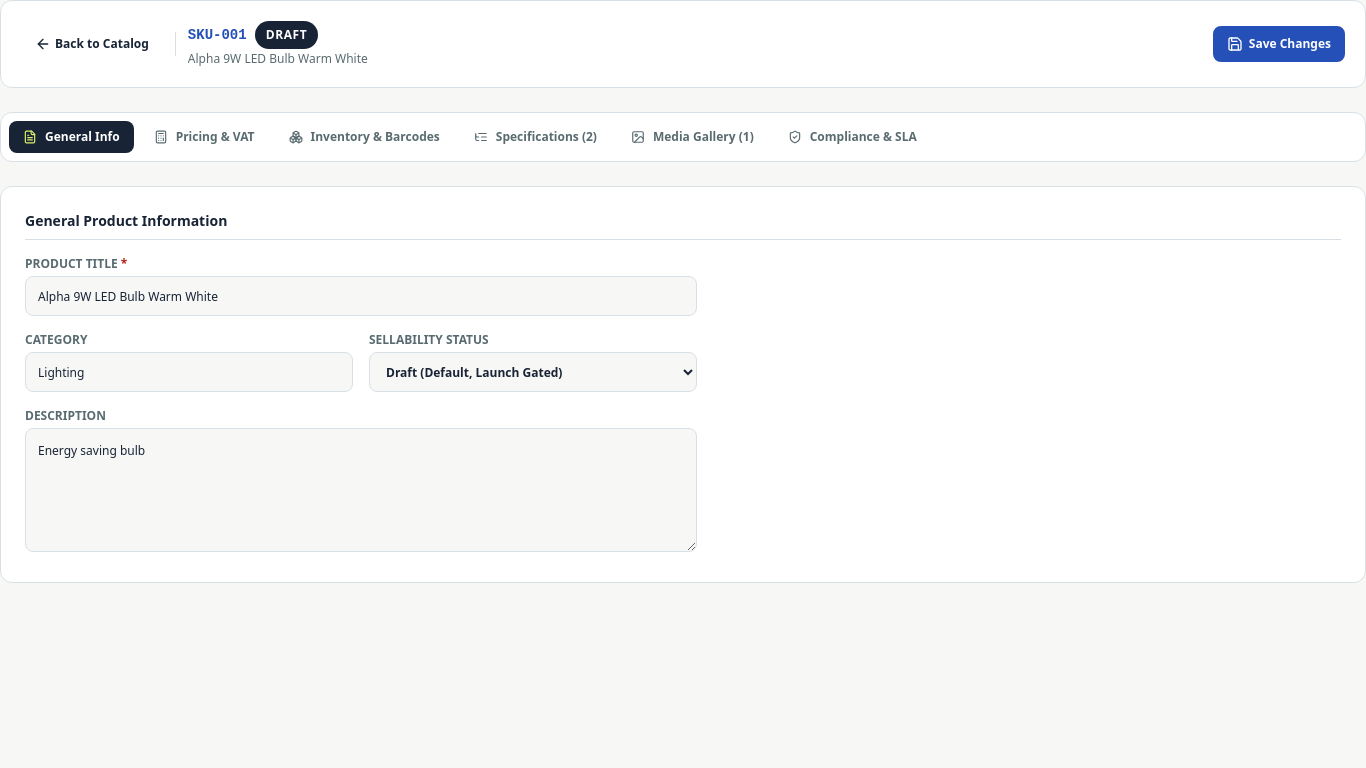
Scenario: ToolCart Retail Admin Portal Hardening & Verification Suite › Feature 9–15: ProductEditorForm Tabbed Navigation & Live Calculations › switches between tabs cleanly without layout breakage
Expected: the heading "General Product Information" is shown, [25,211,1341,240]
Switch to Pricing & VAT tab
What coordinates should you click on to do the following:
click the button "Pricing & VAT"
I would click on:
 (204, 137)
Its box is [140,121,268,153].
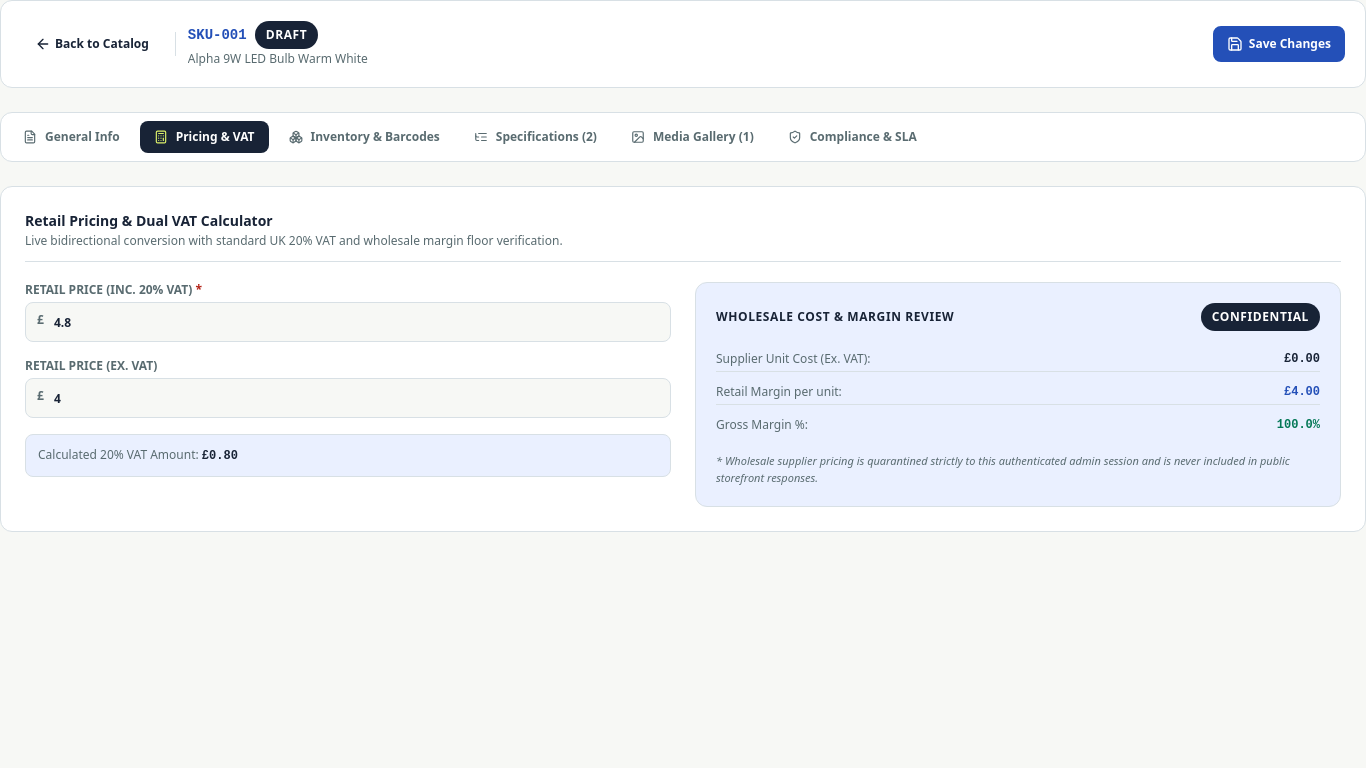
Result: the heading "Retail Pricing & Dual VAT Calculator" is shown at [25,211,273,230]
Switch to Inventory tab
What coordinates should you click on to do the following:
click the button "Inventory & Barcodes"
I would click on:
 (364, 137)
Its box is [274,121,454,153].
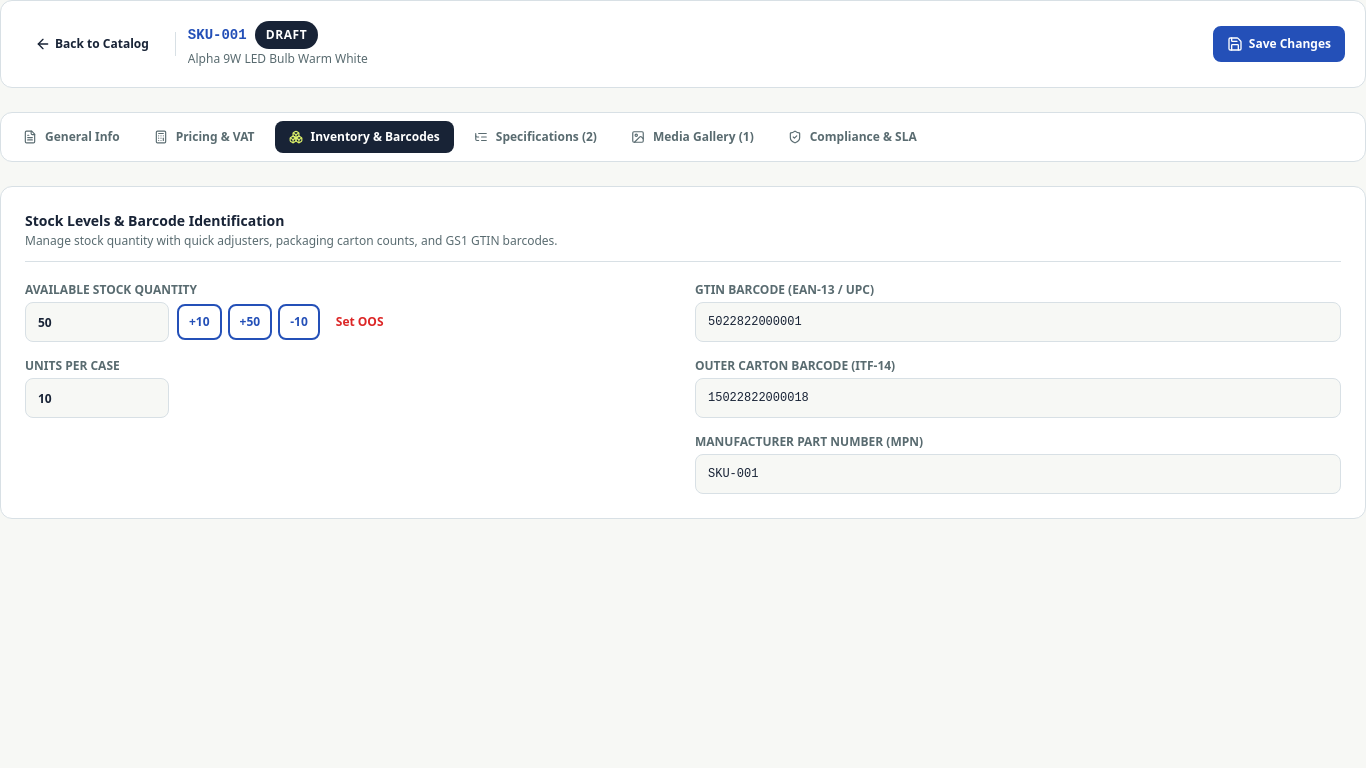
Result: the heading "Stock Levels & Barcode Identification" is shown at [25,211,284,230]
Switch to Specifications tab
What coordinates should you click on to do the following:
click the button "Specifications (2)"
I would click on:
 (535, 137)
Its box is [460,121,611,153].
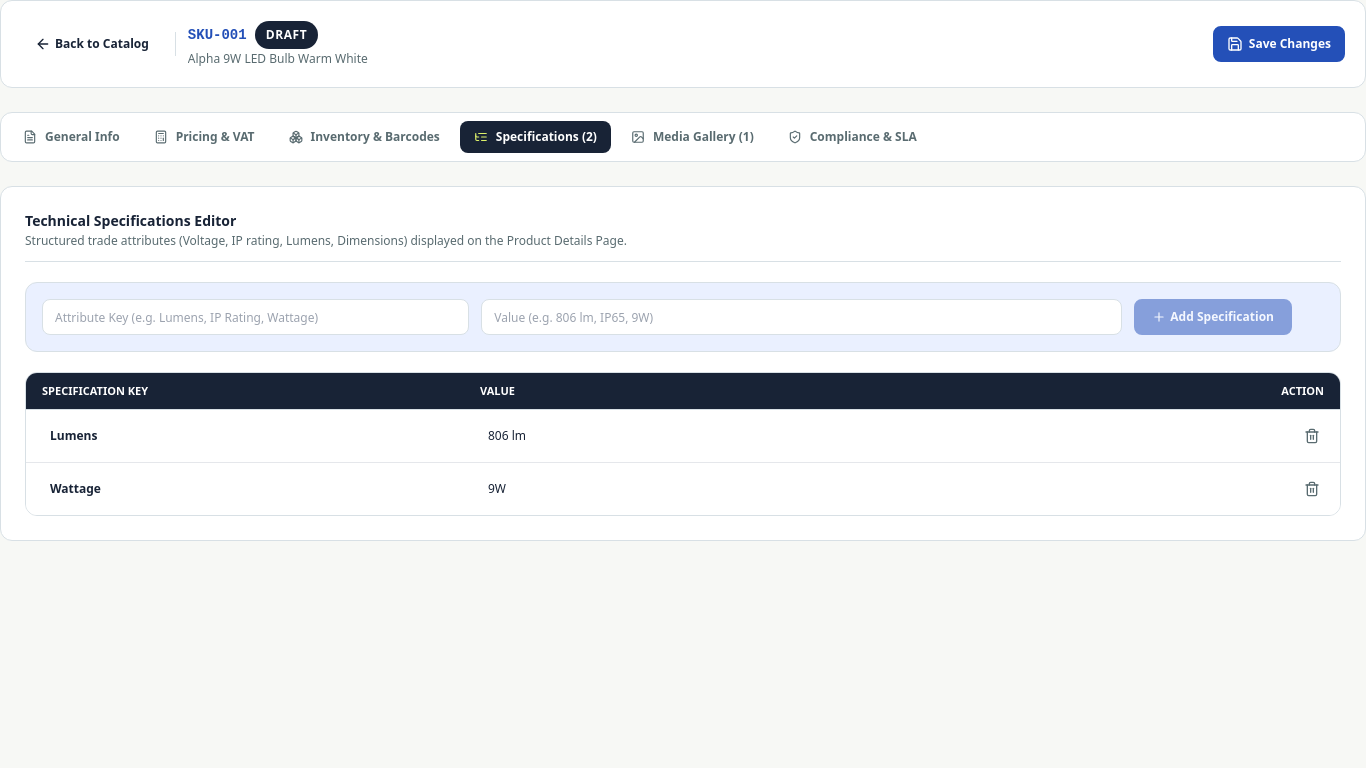
Result: the heading "Technical Specifications Editor" is shown at [25,211,236,230]
Switch to Media tab
What coordinates should you click on to do the following:
click the button "Media Gallery (1)"
I would click on:
 (692, 137)
Its box is [617,121,768,153].
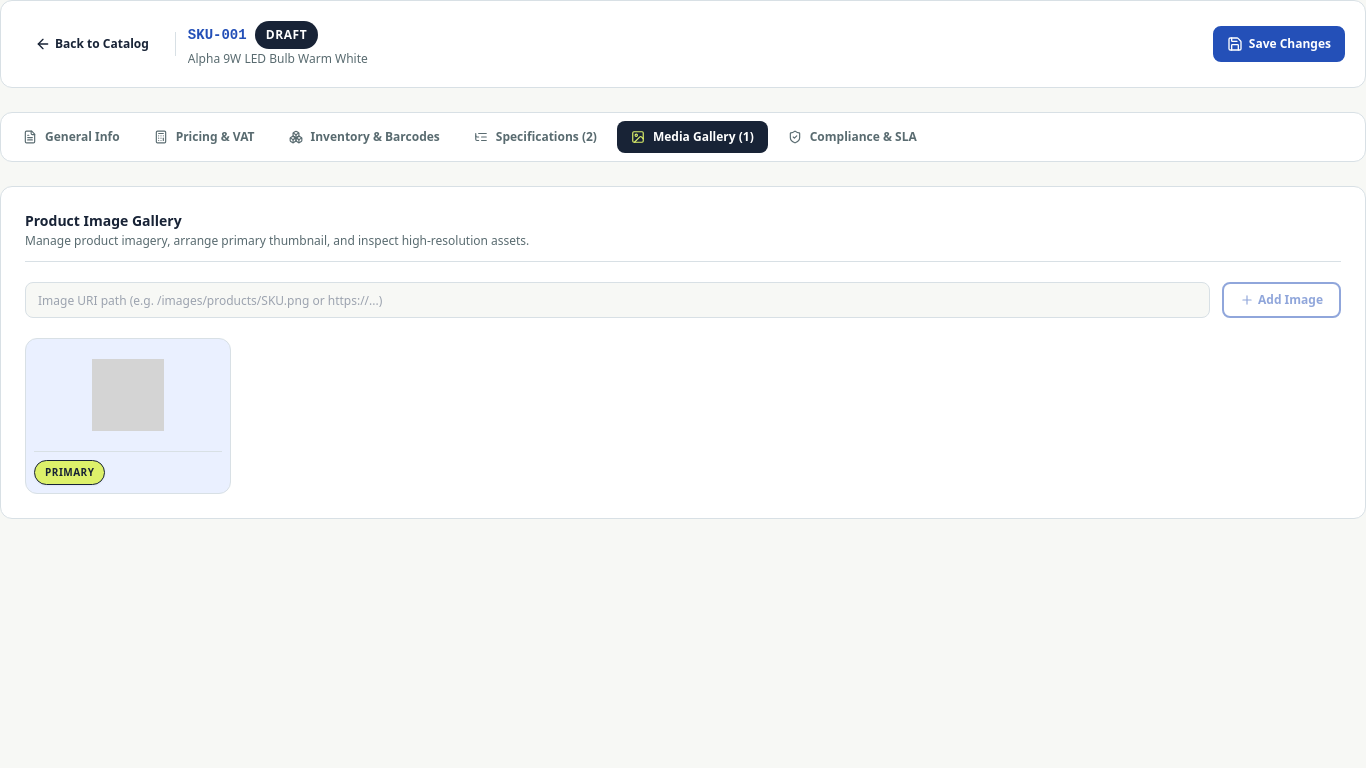
Result: the heading "Product Image Gallery" is shown at [25,211,182,230]
Switch to Compliance tab
What coordinates should you click on to do the following:
click the button "Compliance & SLA"
I would click on:
 (852, 137)
Its box is [774,121,931,153].
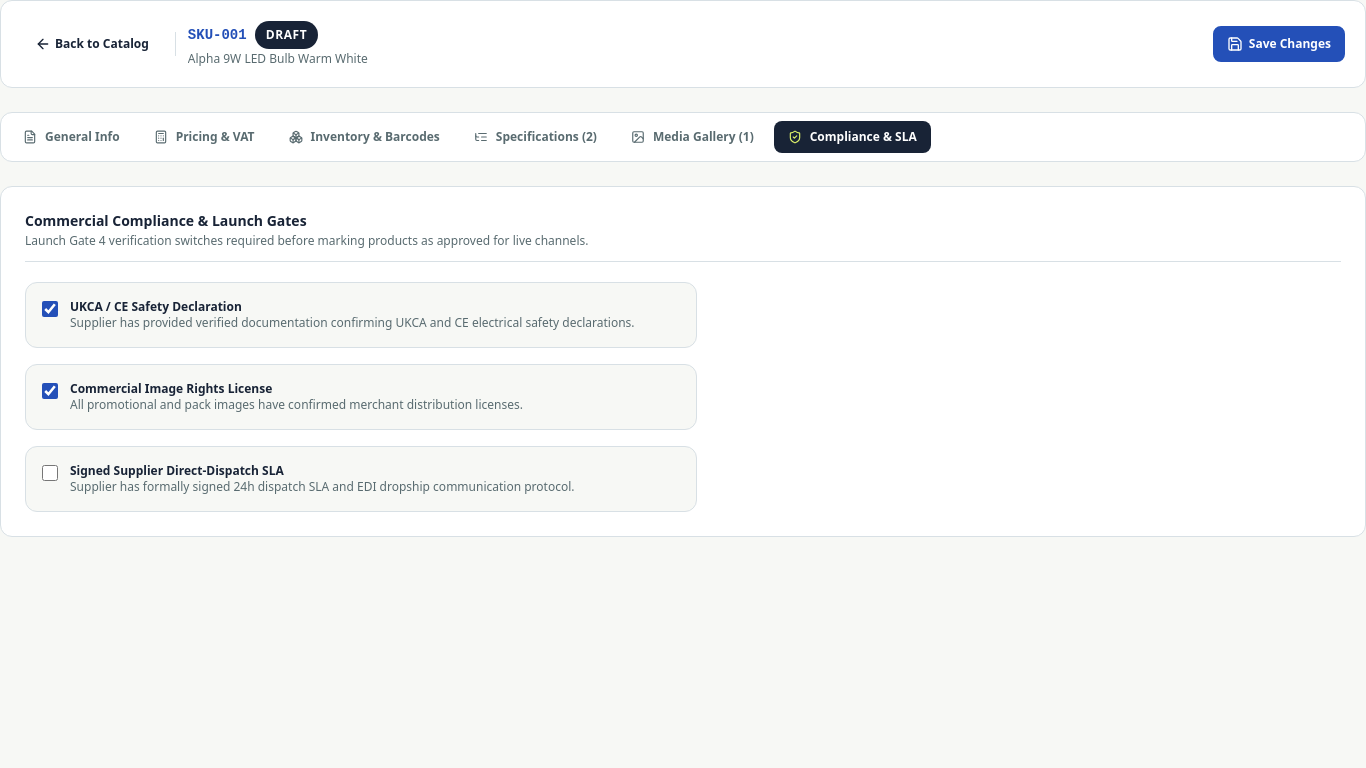
Result: the heading "Commercial Compliance & Launch Gates" is shown at [25,211,307,230]
